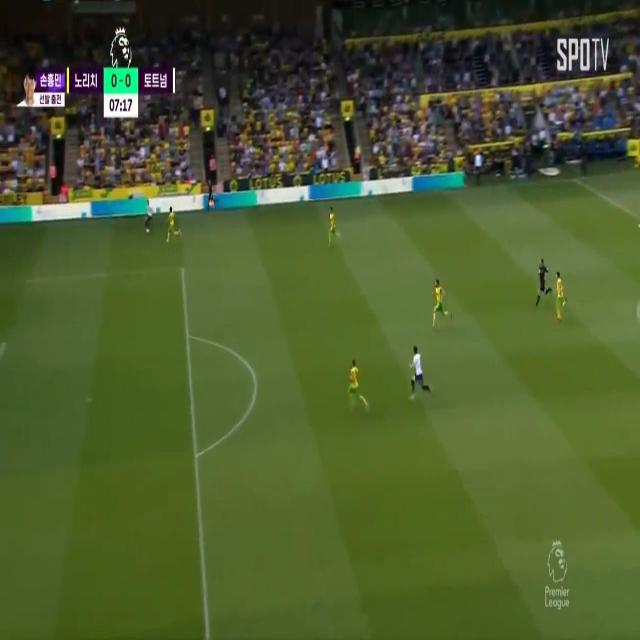ball: (144, 227, 152, 238)
player: (406, 341, 429, 402), (348, 357, 372, 412), (429, 275, 451, 326), (551, 271, 571, 317), (327, 204, 345, 249), (164, 203, 178, 241), (146, 194, 154, 238)
referee: (533, 250, 553, 308)
